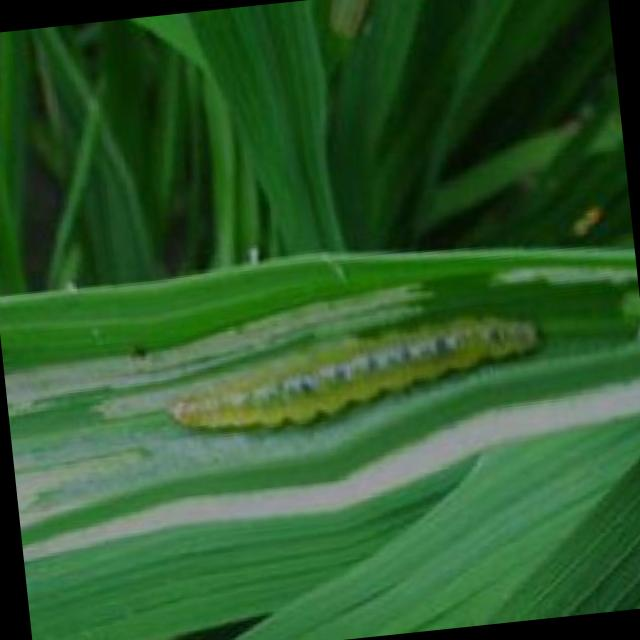leaf-folder: (156, 300, 561, 439)
